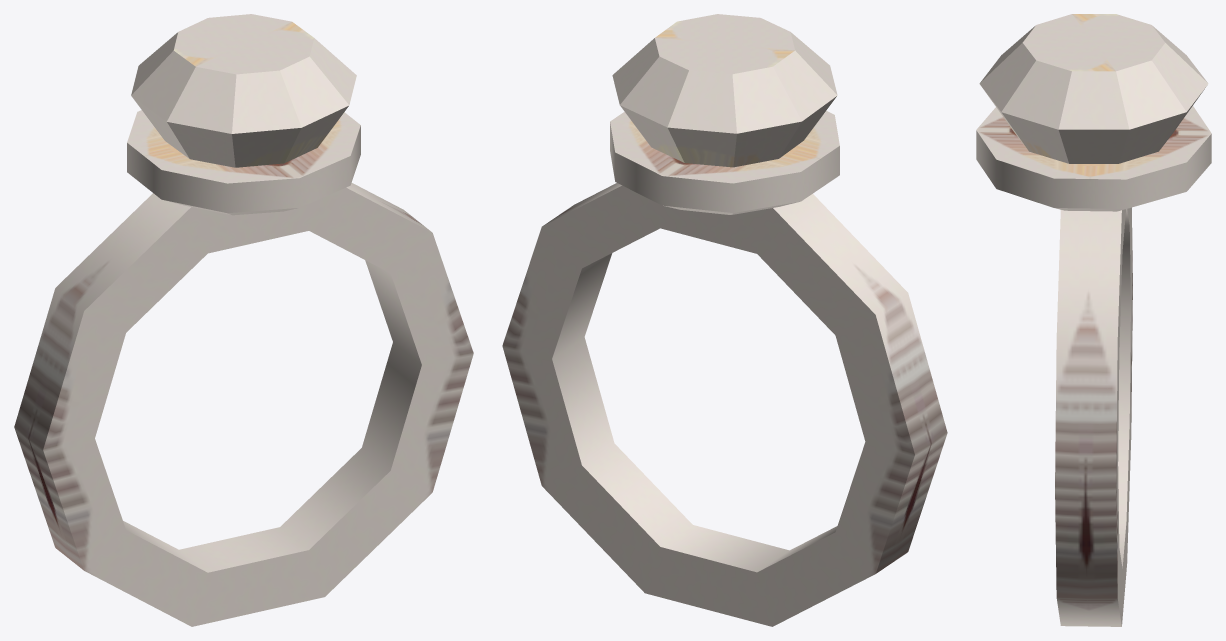
The model's file is ring2.fbx.
The picture shows the model from 3 angles, left to right: view 1: azimuth 30°, elevation 25°; view 2: azimuth 150°, elevation 25°; view 3: azimuth 270°, elevation 25°; orthographic projection.
Visible parts, largest first — view 1: ring2; view 2: ring2; view 3: ring2.
Boxes of the visible parts, bbox=[...] form: ring2: bbox=[14, 14, 473, 626]; ring2: bbox=[502, 14, 947, 626]; ring2: bbox=[976, 14, 1211, 626].
Size of the model in its own units: 0.2534 by 0.3177 by 0.1228.
